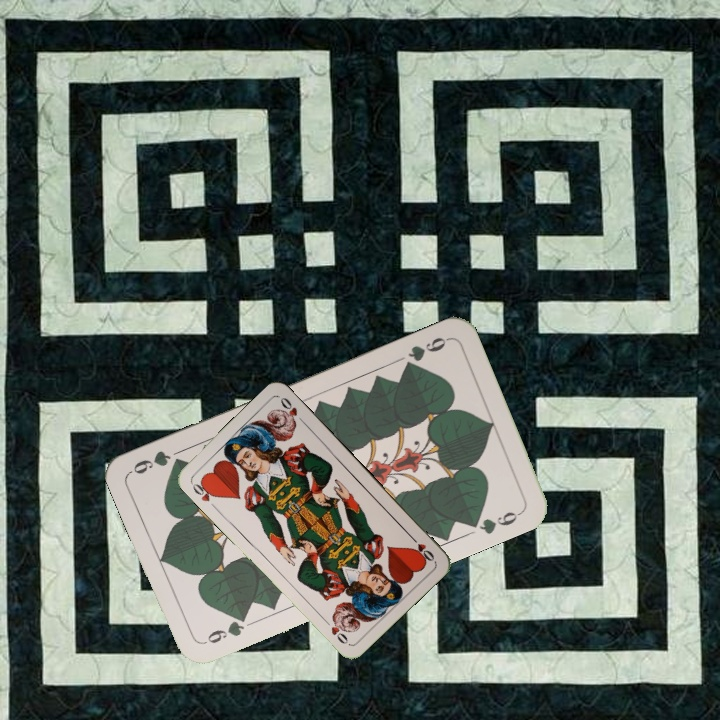G9: (400, 333, 452, 372), (199, 610, 250, 647)
HO: (405, 531, 437, 564), (187, 476, 220, 504)
